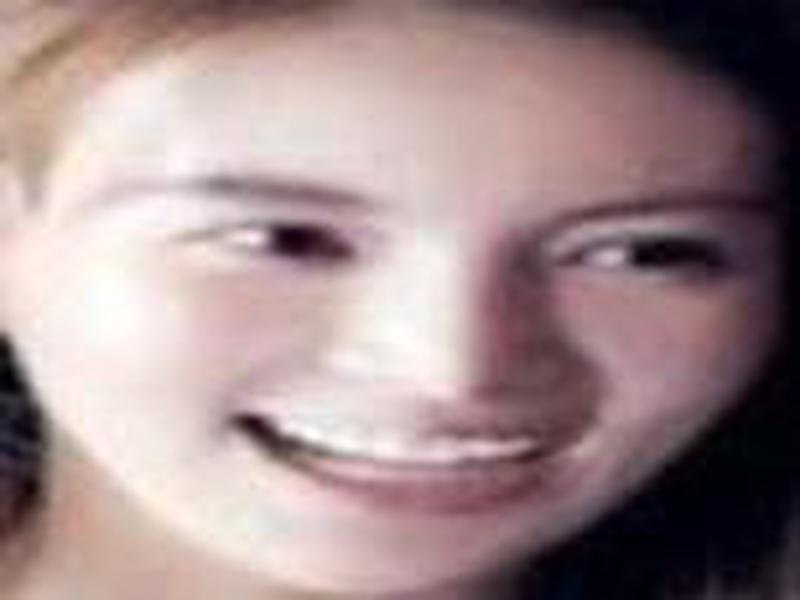without_mask: (6, 22, 764, 591)
